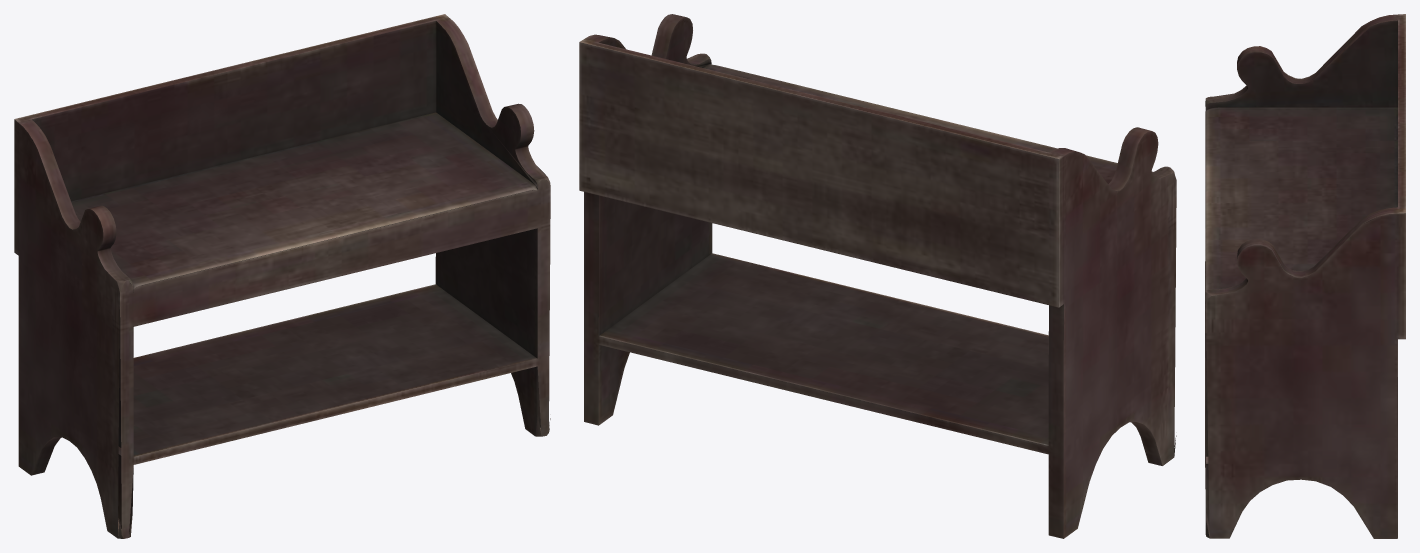
File: prop_bench.glb
3 renders of one model, left to right at view 1: azimuth 30°, elevation 25°; view 2: azimuth 150°, elevation 25°; view 3: azimuth 270°, elevation 25°, orthographic. The views are drawn at different scales.
Parts seen in each view (by area): view 1: prop_bench; view 2: prop_bench; view 3: prop_bench.
Part boxes in pixels (box(x1,y1,x2,y2)): prop_bench: box(14, 14, 550, 538); prop_bench: box(579, 14, 1176, 538); prop_bench: box(1205, 14, 1405, 538).
Size of the model in its own units: 1.05 by 0.8 by 0.4466.
Materials: 1 (1 with a texture image).
